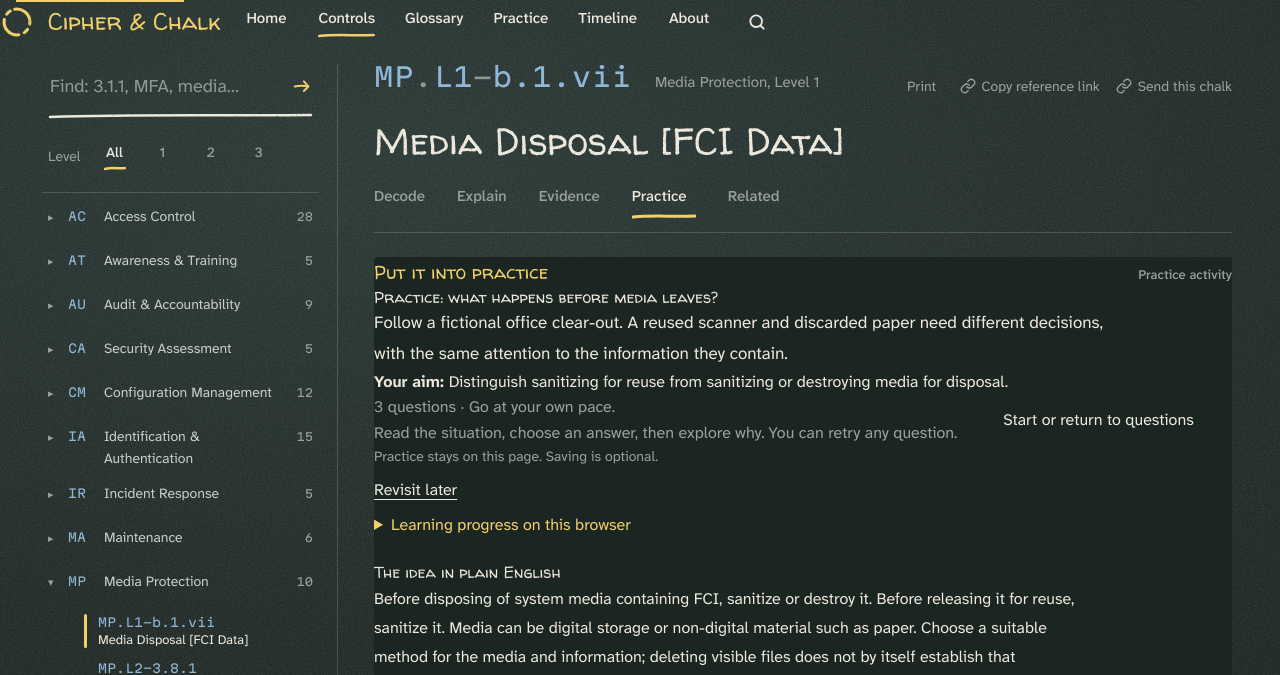
Test: Control views › offers its views and keeps the practice on its own view for level-one-media-disposal
This screenshot has width=1280, height=675.
expect the heading "Media Disposal [FCI Data]" is shown: met, box [374,115,844,167]
expect the heading "Practice: what happens before media leaves?" is shown: met, box [374,287,718,307]
Click the link "Decode": click(399, 196) [374,186,425,206]
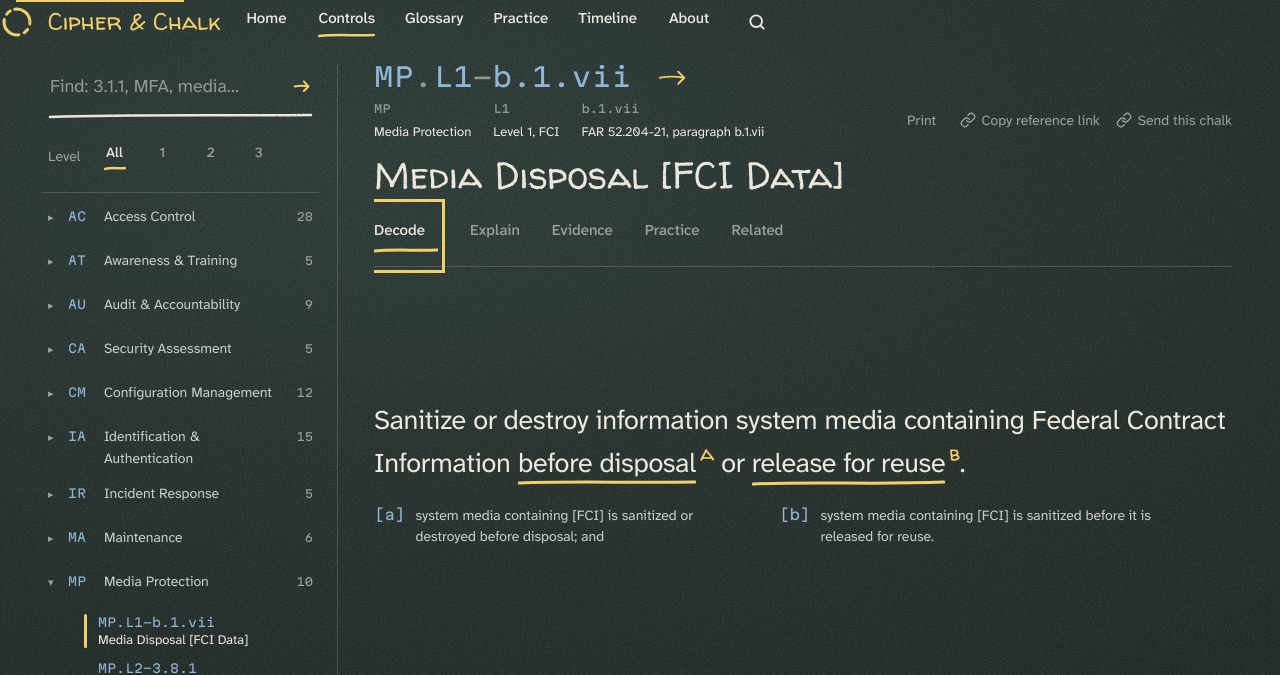
expect the heading "Practice: what happens before media leaves?" is gone: met
